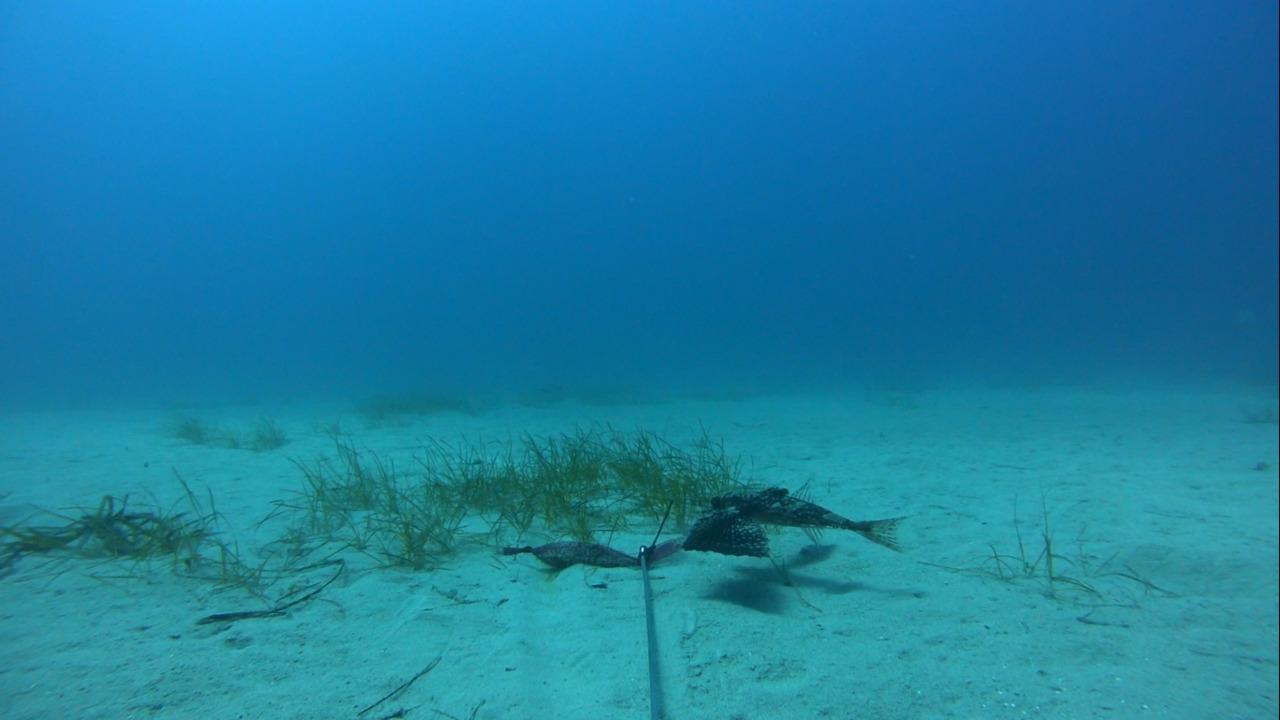dactylopterus: (670, 473, 918, 575)
